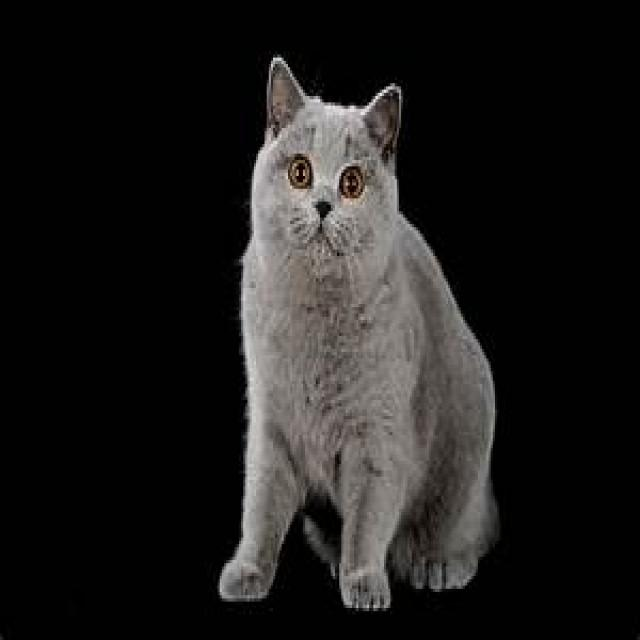animal: (216, 51, 499, 611)
